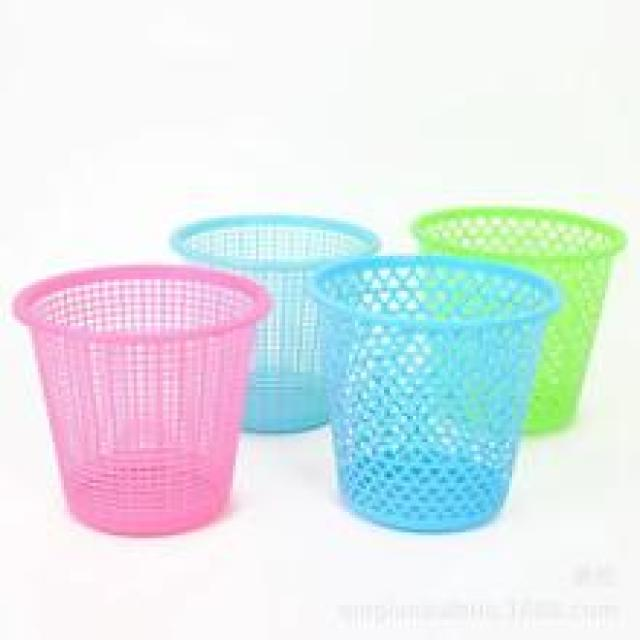dustbin: (302, 250, 567, 538), (7, 260, 278, 540), (164, 210, 383, 438)
